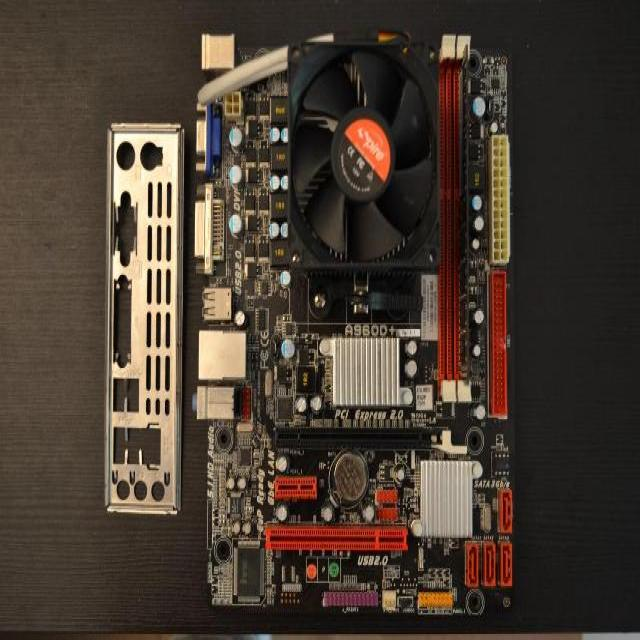CPU_Fan: (286, 34, 438, 269)
RAM: (456, 49, 470, 381)
